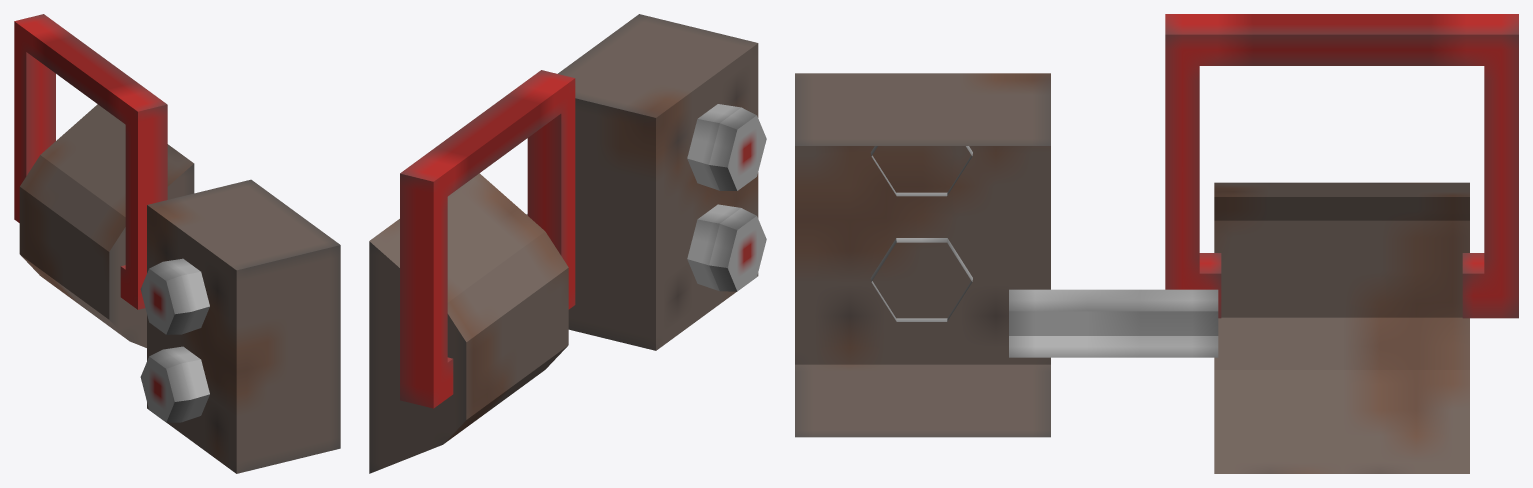
Rendered from obj_wallLever.fbx.
3 renders of one model, left to right at view 1: azimuth 30°, elevation 25°; view 2: azimuth 150°, elevation 25°; view 3: azimuth 270°, elevation 25°, orthographic. The views are drawn at different scales.
Visible parts, largest first — view 1: obj_wallLeverBase, obj_wallLever; view 2: obj_wallLeverBase, obj_wallLever; view 3: obj_wallLeverBase, obj_wallLever.
Part boxes in pixels (box(x1,y1,x2,y2)): obj_wallLeverBase: box(19, 104, 340, 473); obj_wallLever: box(14, 14, 167, 309); obj_wallLeverBase: box(369, 14, 766, 473); obj_wallLever: box(400, 70, 575, 408); obj_wallLeverBase: box(795, 73, 1469, 473); obj_wallLever: box(1165, 14, 1518, 318).
Size of the model in its own units: 8.21 by 15.22 by 24.43.
